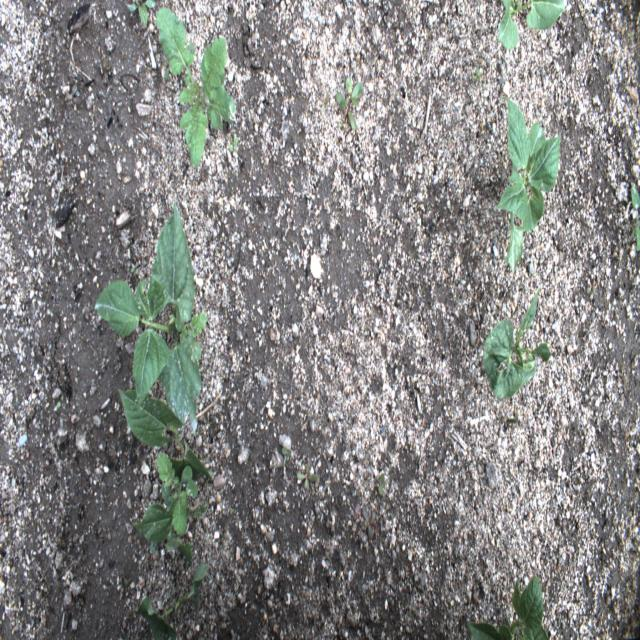crop: (94, 203, 202, 436), (494, 93, 562, 274), (118, 389, 216, 484), (482, 286, 552, 398), (135, 564, 209, 640), (465, 573, 549, 639), (130, 498, 208, 566), (497, 0, 567, 53)
weed: (156, 5, 234, 169), (156, 452, 198, 536), (334, 74, 364, 132), (177, 312, 208, 362), (125, 0, 156, 24), (469, 53, 486, 90), (630, 183, 639, 250), (296, 463, 318, 490), (361, 506, 376, 540), (376, 472, 388, 498), (281, 446, 292, 466), (228, 136, 238, 154), (320, 92, 328, 112), (163, 60, 170, 80), (586, 280, 596, 294), (53, 401, 61, 411), (627, 32, 634, 40), (131, 268, 139, 274)
